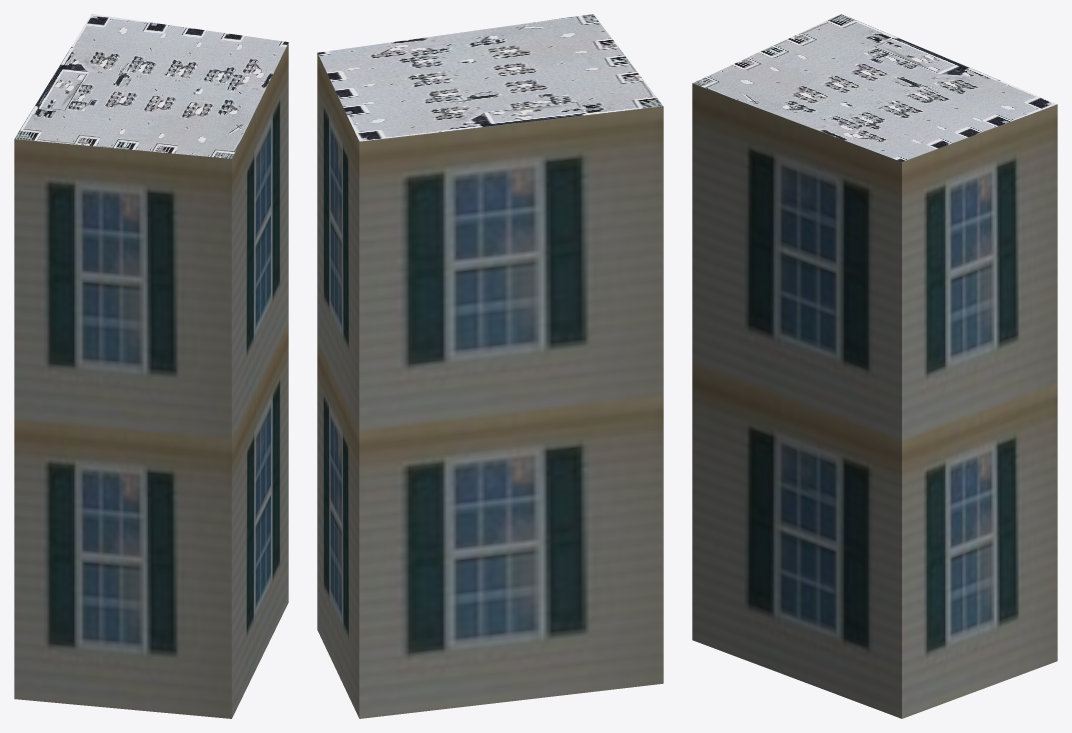
File: ResTex__1732.fbx
3 views of the same model, side by side, from view 1: azimuth 30°, elevation 25°; view 2: azimuth 150°, elevation 25°; view 3: azimuth 270°, elevation 25° (orthographic). The views are drawn at different scales.
Visible parts, largest first — view 1: CityEngineMaterial_7_m, CityEngineMaterial_m; view 2: CityEngineMaterial_7_m, CityEngineMaterial_m; view 3: CityEngineMaterial_7_m, CityEngineMaterial_m.
Part boxes in pixels (x1=…): CityEngineMaterial_7_m: x1=14, y1=43, x2=288, y2=718; CityEngineMaterial_m: x1=14, y1=14, x2=288, y2=158; CityEngineMaterial_7_m: x1=317, y1=53, x2=663, y2=718; CityEngineMaterial_m: x1=317, y1=14, x2=662, y2=141; CityEngineMaterial_7_m: x1=692, y1=83, x2=1057, y2=718; CityEngineMaterial_m: x1=693, y1=14, x2=1056, y2=161.
Size of the model in its own units: 3.42 by 6 by 3.56.
2 materials, 2 textured.
